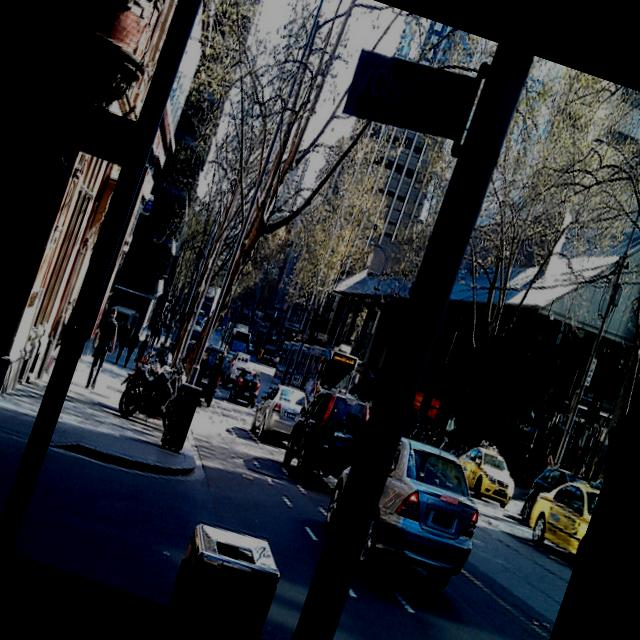Vehicle: (310, 419, 500, 603), (276, 382, 371, 497), (518, 464, 602, 571), (265, 332, 361, 420), (110, 339, 189, 432), (515, 459, 592, 538), (449, 440, 525, 511), (246, 376, 312, 450), (227, 366, 264, 410), (219, 349, 253, 393), (408, 417, 442, 446), (436, 432, 466, 458)
